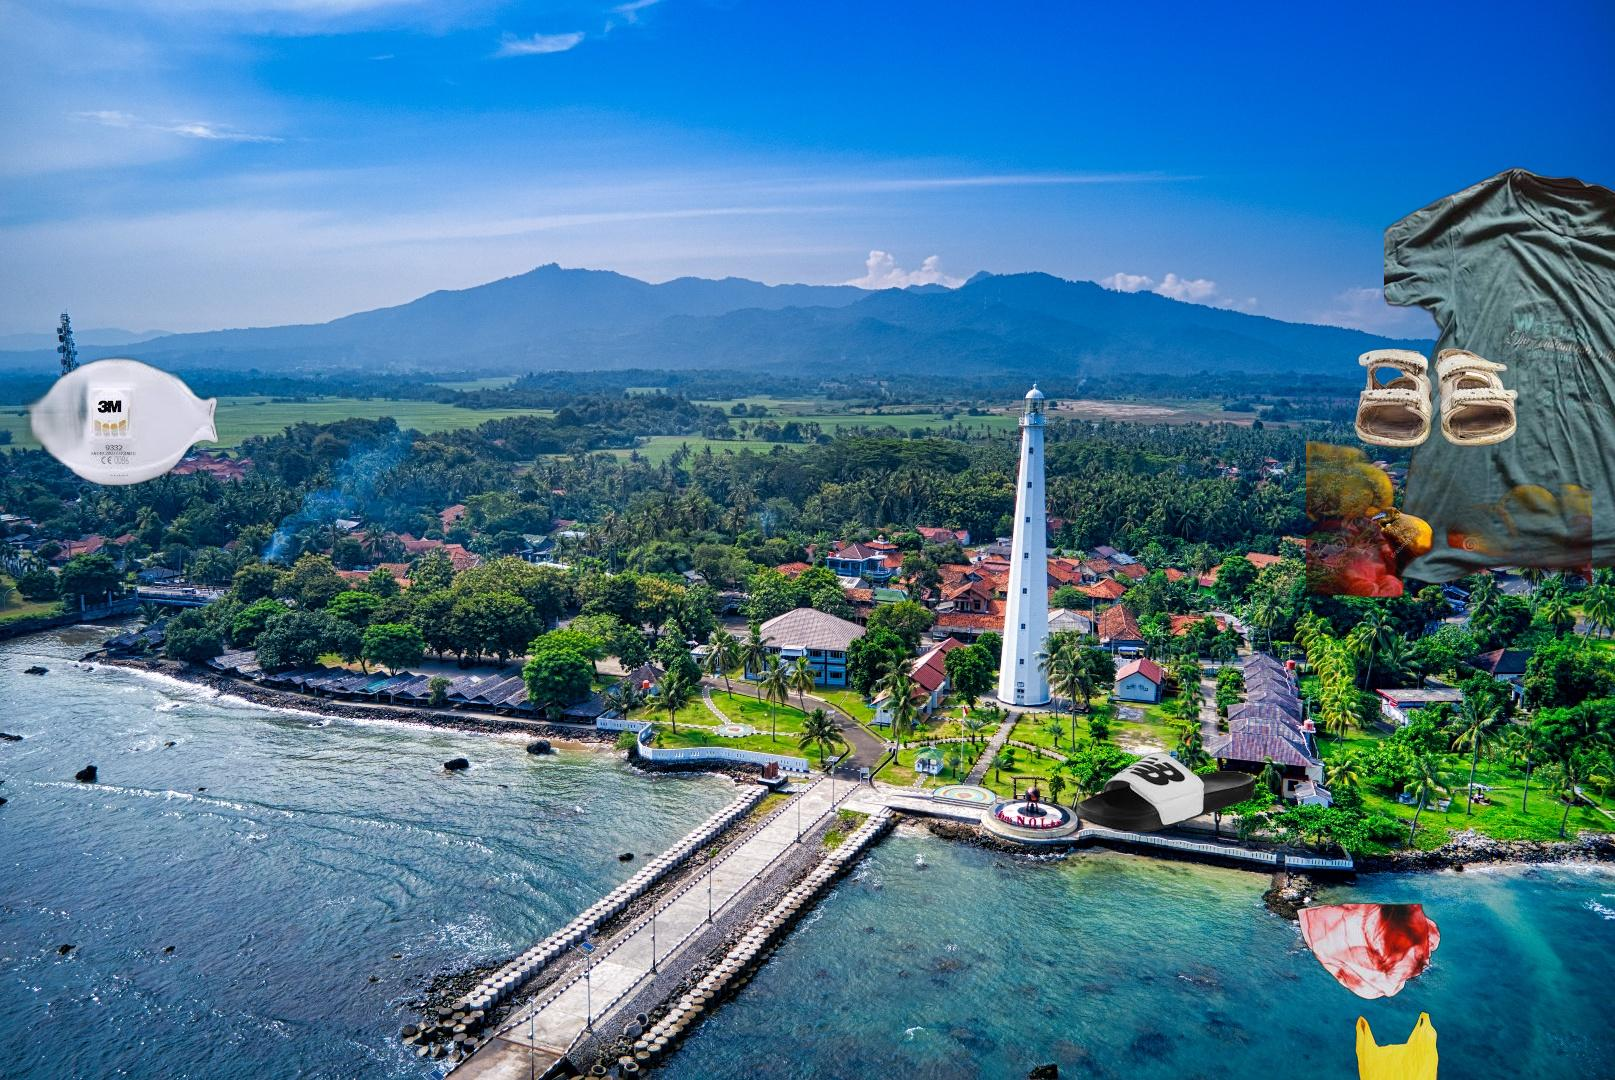biological: (1306, 441, 1592, 617)
clothes: (1384, 162, 1615, 589)
plastic-bag: (1293, 900, 1444, 1080)
shoes: (1351, 345, 1521, 450), (1073, 750, 1258, 835)
trash: (17, 276, 221, 523), (914, 1078, 1143, 1080)
